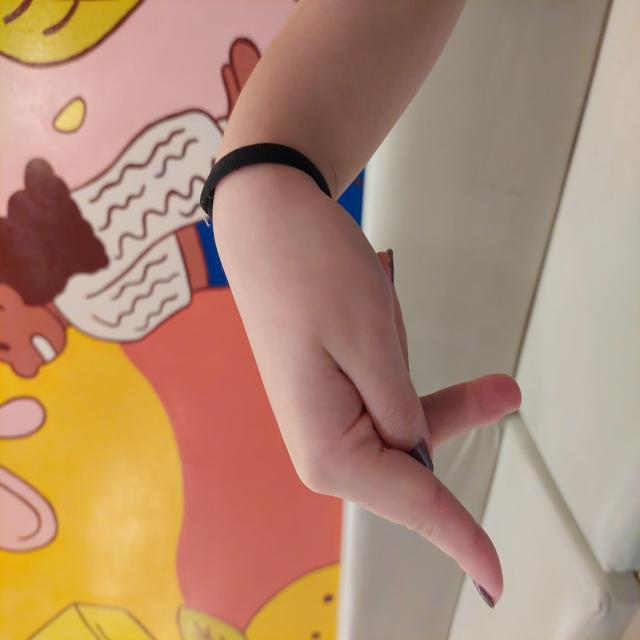P: (155, 287, 601, 604)
